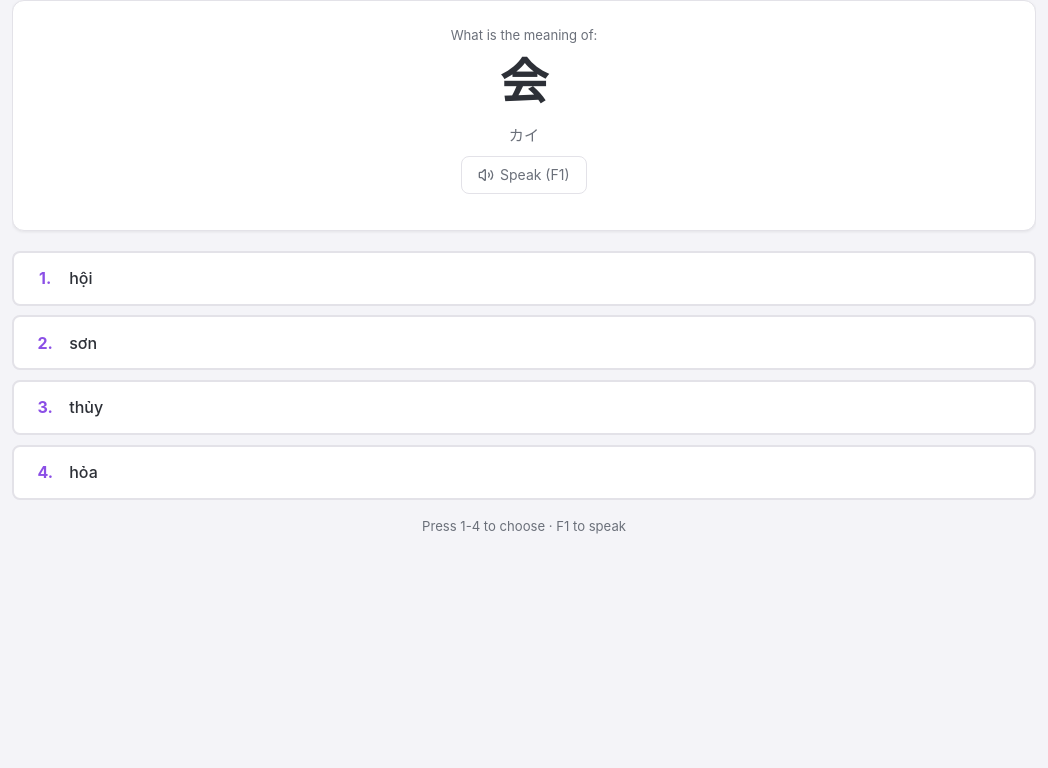
Test: KanjiMultipleChoice — selection › wrong answer shows Wrong! feedback
Click the text "sơn" at (83, 343), box [69,333,97,353]
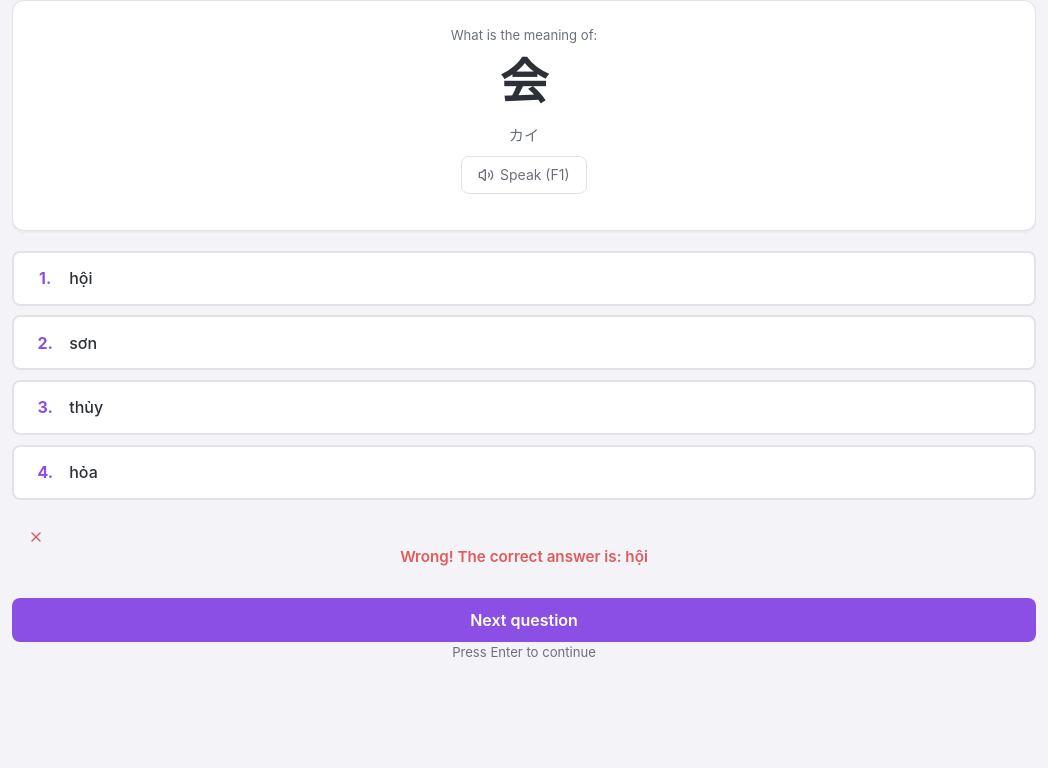
Now the text "Wrong! The correct answer is: hội" is shown, box [28,529,648,566]
